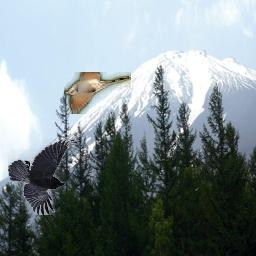Crow: (9, 139, 80, 215)
Cuckoo: (65, 72, 132, 114)
